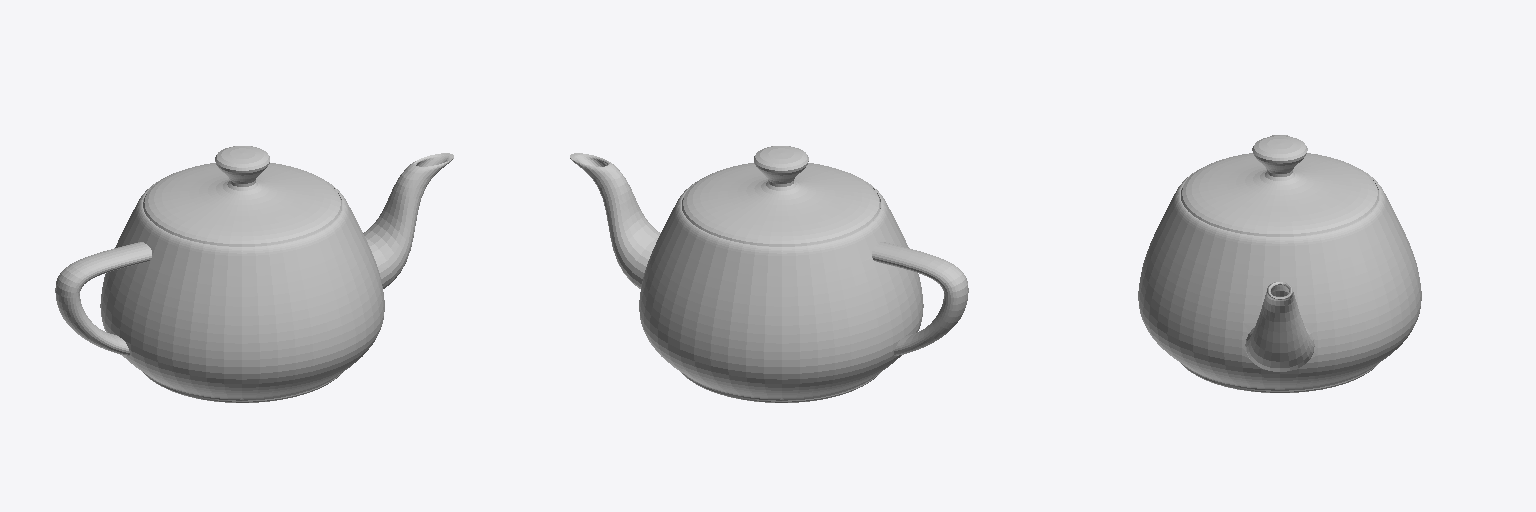
The model's file is teapot.obj.
The picture shows the model from 3 angles: view 1: azimuth 30°, elevation 25°; view 2: azimuth 150°, elevation 25°; view 3: azimuth 270°, elevation 25°; orthographic projection.
Parts seen in each view (by area): view 1: teapot; view 2: teapot; view 3: teapot.
Part boxes in pixels (bbox=[...]): teapot: bbox=[55, 146, 453, 402]; teapot: bbox=[570, 146, 968, 402]; teapot: bbox=[1138, 135, 1421, 392].
Bounding box in the file's own units: 7.71 × 3.95 × 4.79.